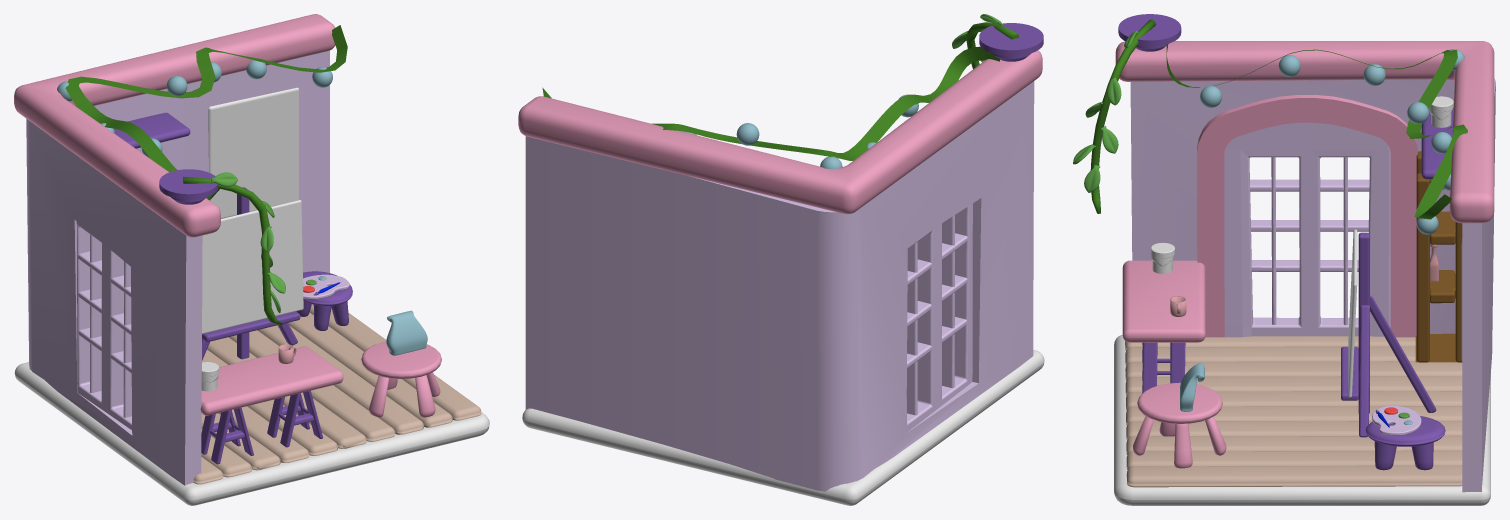
The model's file is diorama portfolio.fbx.
The picture shows the model from 3 angles, left to right: view 1: azimuth 30°, elevation 25°; view 2: azimuth 150°, elevation 25°; view 3: azimuth 270°, elevation 25°; orthographic projection. The views are drawn at different scales.
Parts seen in each view (by area): view 1: pared, techo, maderasuelo, cuadro, base, cuadro.001, ventana, mesa, liston, patas de mesa, mesita, atril (+9 smaller); view 2: pared, techo, ventana, base, liston, maceta; view 3: maderasuelo, pared, ventana, techo, ventanamarco, base, mesa, mueble, atril, liston, mesita, patas de mesita (+12 smaller).
Boxes of the visible parts, x1,y1,x2,y2 form: pared: [26, 50, 329, 485]; techo: [14, 14, 335, 237]; maderasuelo: [193, 304, 481, 484]; cuadro: [202, 200, 303, 333]; base: [14, 362, 489, 505]; cuadro.001: [208, 87, 299, 218]; ventana: [76, 221, 131, 429]; mesa: [200, 346, 343, 415]; liston: [65, 25, 347, 200]; patas de mesa: [201, 390, 323, 464]; mesita: [361, 341, 441, 378]; atril: [202, 187, 300, 360]; pared: [525, 81, 1034, 491]; techo: [518, 50, 1042, 214]; ventana: [906, 203, 972, 432]; base: [522, 350, 1044, 505]; liston: [542, 46, 999, 160]; maceta: [979, 23, 1043, 61]; maderasuelo: [1125, 336, 1462, 487]; pared: [1130, 78, 1495, 492]; ventana: [1224, 122, 1390, 337]; techo: [1115, 41, 1494, 223]; ventanamarco: [1197, 95, 1417, 337]; base: [1114, 335, 1490, 505]; mesa: [1122, 260, 1205, 342]; mueble: [1415, 151, 1462, 362]; atril: [1341, 232, 1436, 437]; liston: [1166, 44, 1467, 219]; mesita: [1137, 382, 1222, 423]; patas de mesita: [1133, 416, 1226, 468].
Size of the model in its own units: 272 by 261 by 294.
